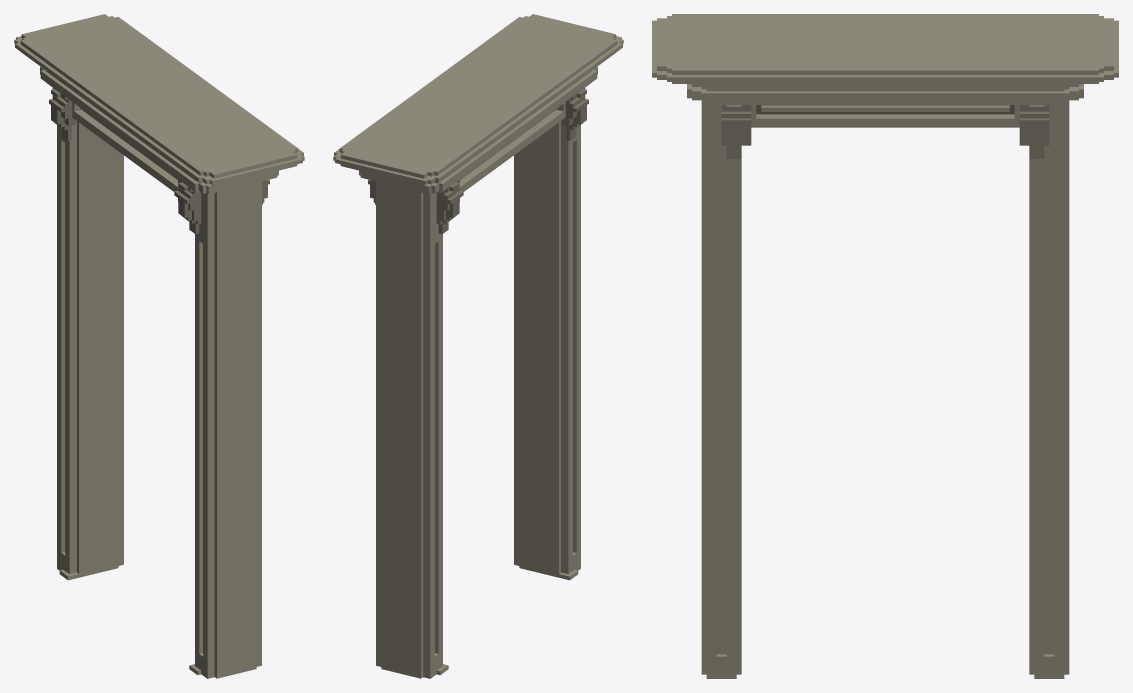
The model's file is factory4.4-32.obj.
3 renders of one model, left to right at view 1: azimuth 30°, elevation 25°; view 2: azimuth 150°, elevation 25°; view 3: azimuth 270°, elevation 25°, orthographic. The views are drawn at different scales.
Size of the model in its own units: 2.9 by 13.8 by 9.4.
Materials: 1 (1 with a texture image).
